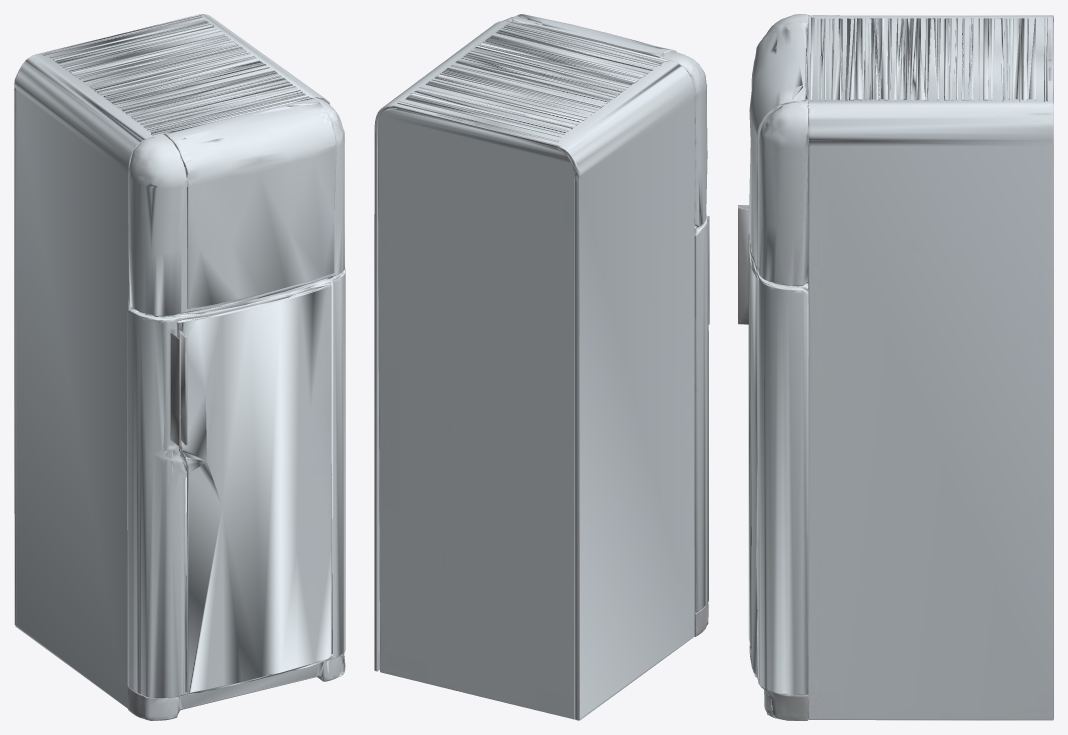
Rendered from tulanh.glb.
3 renders of one model, left to right at view 1: azimuth 30°, elevation 25°; view 2: azimuth 150°, elevation 25°; view 3: azimuth 270°, elevation 25°, orthographic. The views are drawn at different scales.
Size of the model in its own units: 0.3633 by 0.9512 by 0.4463.
1 material, 1 textured.
